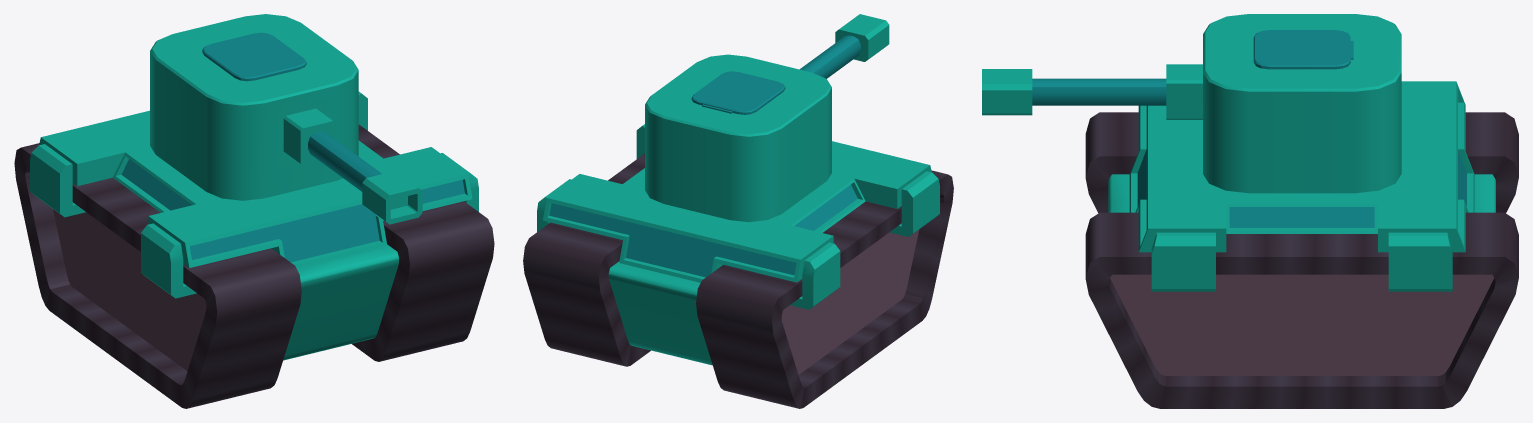
The model's file is TankImport.fbx.
3 renders of one model, left to right at view 1: azimuth 30°, elevation 25°; view 2: azimuth 150°, elevation 25°; view 3: azimuth 270°, elevation 25°, orthographic. The views are drawn at different scales.
Parts seen in each view (by area): view 1: Body, Head; view 2: Body, Head; view 3: Body, Head.
Part boxes in pixels (x1,y1,x2,y2): Body: [14, 91, 494, 408]; Head: [150, 14, 422, 224]; Body: [523, 124, 953, 408]; Head: [645, 14, 889, 222]; Body: [1085, 81, 1518, 408]; Head: [982, 14, 1401, 193].
Bounding box in the file's own units: 1.19 × 1 × 1.69.
